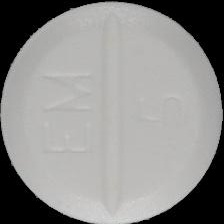54868-6071: (0, 0, 224, 224)
